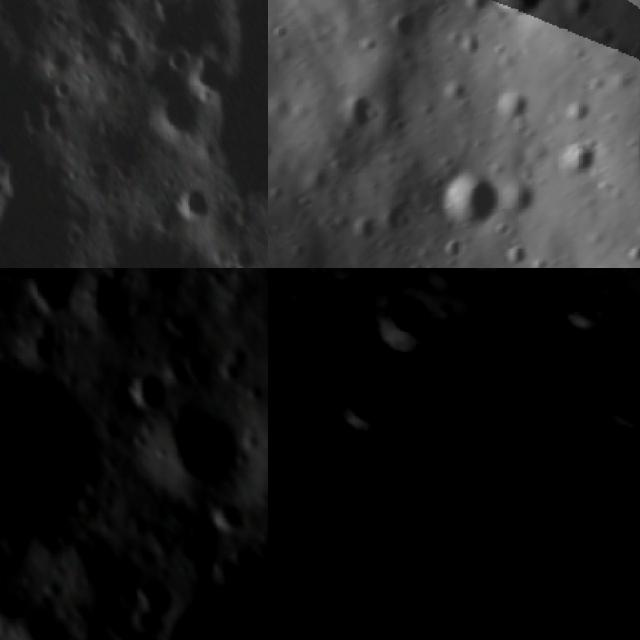crater: (0, 317, 162, 604), (110, 373, 268, 534), (54, 268, 160, 356), (369, 282, 457, 368), (441, 162, 512, 236), (334, 370, 406, 441), (5, 587, 87, 640), (120, 362, 183, 426), (144, 83, 210, 143), (126, 578, 184, 638), (596, 367, 640, 436), (562, 288, 610, 338), (552, 130, 599, 178), (170, 179, 217, 224), (477, 0, 554, 26), (338, 82, 374, 122), (428, 74, 472, 106), (491, 84, 529, 121), (160, 42, 197, 78), (451, 268, 524, 284), (228, 238, 265, 268), (349, 210, 377, 241), (498, 237, 531, 263), (421, 164, 447, 196), (438, 230, 468, 255), (392, 202, 414, 232), (620, 239, 640, 265), (489, 214, 511, 234), (416, 198, 438, 218), (527, 251, 547, 268), (268, 177, 282, 200), (634, 208, 640, 229)
